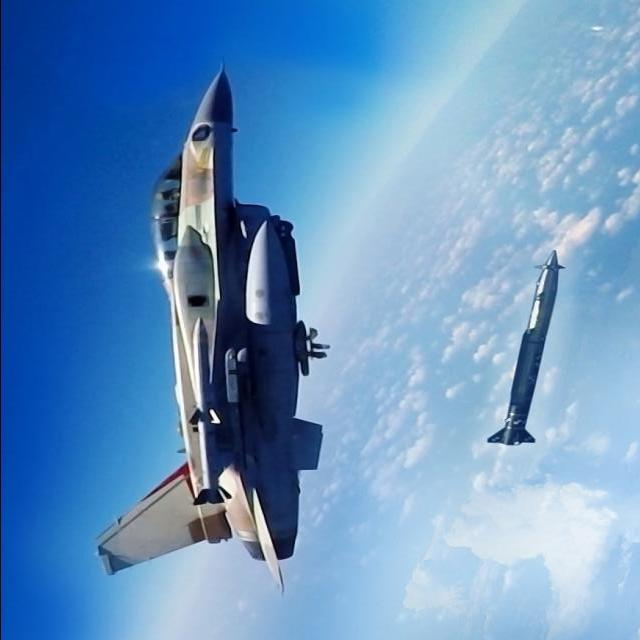missile: (478, 235, 570, 455)
